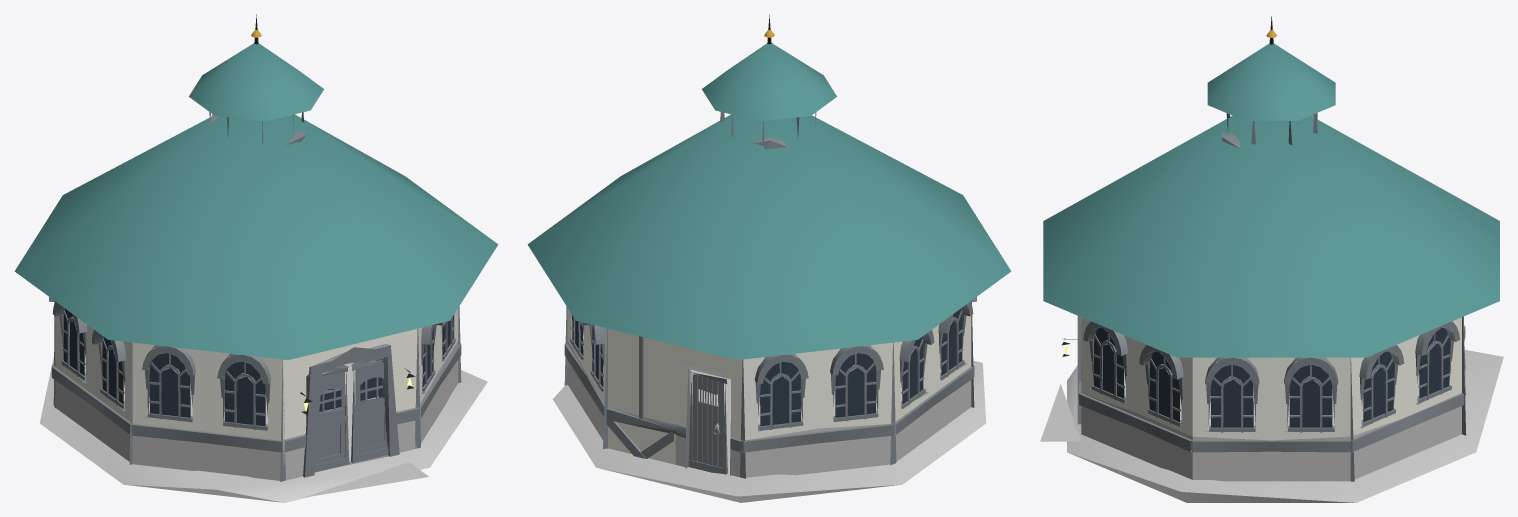
File: generated.music_hall.gltf
The picture shows the model from 3 angles, left to right: view 1: azimuth 30°, elevation 25°; view 2: azimuth 150°, elevation 25°; view 3: azimuth 270°, elevation 25°; orthographic projection.
Parts seen in each view (by area): view 1: lod; view 2: lod; view 3: lod.
Part boxes in pixels (x1,y1,x2,y2): lod: (14, 14, 498, 502); lod: (527, 14, 1011, 502); lod: (1040, 16, 1503, 502).
Size of the model in its own units: 13.32 by 12.95 by 13.52.
